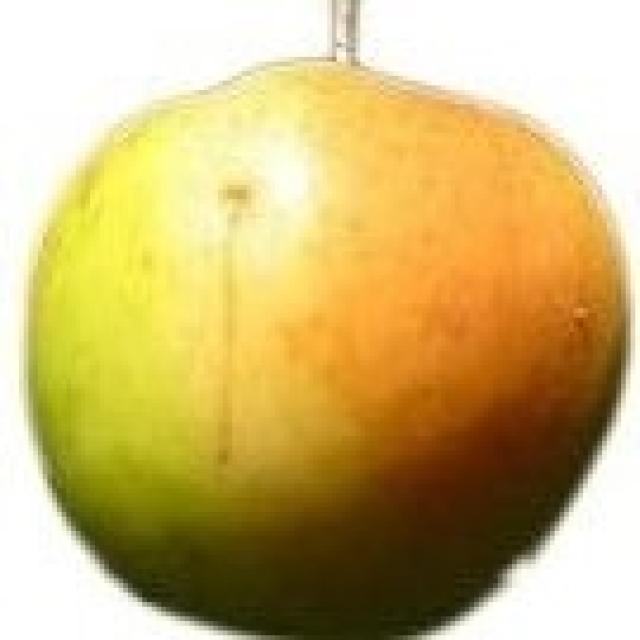75-_ripeness: (28, 55, 629, 640)
